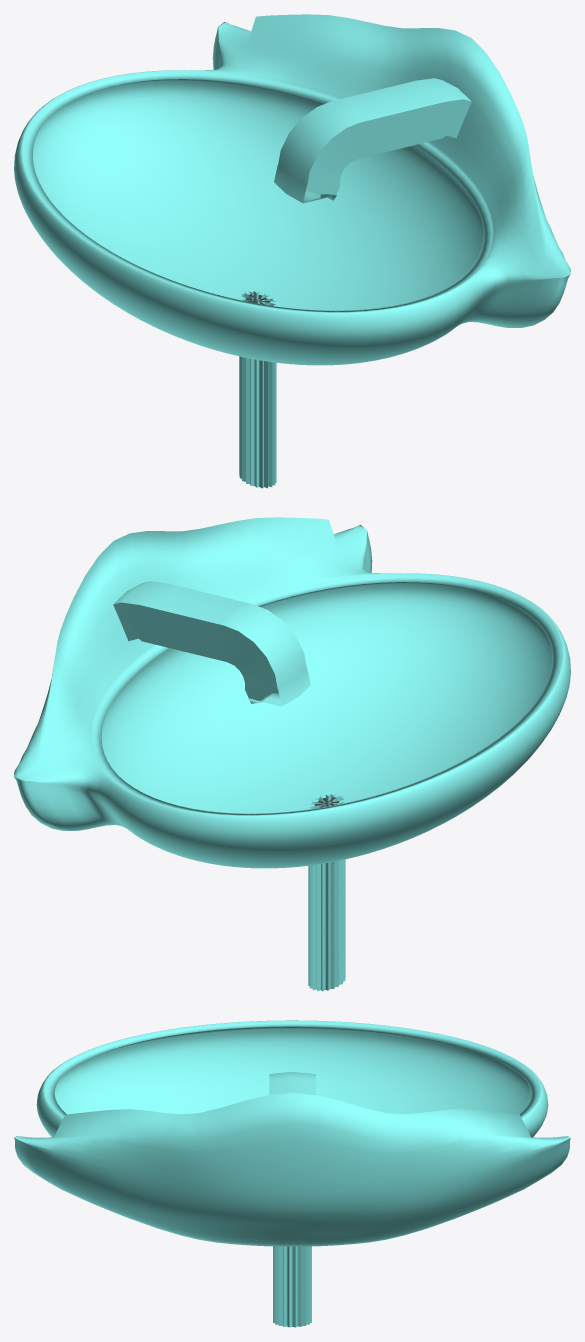
File: sinknew.glb
3 views of the same model, one above another, from view 1: azimuth 30°, elevation 25°; view 2: azimuth 150°, elevation 25°; view 3: azimuth 270°, elevation 25° (orthographic). The views are drawn at different scales.
Parts seen in each view (by area): view 1: node_id5; view 2: node_id5; view 3: node_id5.
Part boxes in pixels (box(x1,y1,x2,y2)): node_id5: box(14, 14, 570, 488); node_id5: box(14, 517, 570, 991); node_id5: box(14, 1020, 570, 1327).
Size of the model in its own units: 0.512 by 0.4675 by 0.7531.
2 materials, 2 textured.
